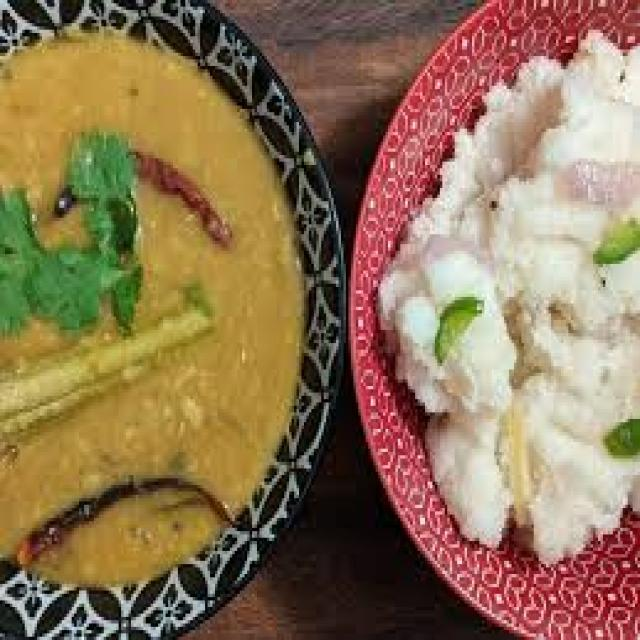UPMA: (373, 40, 638, 554)
